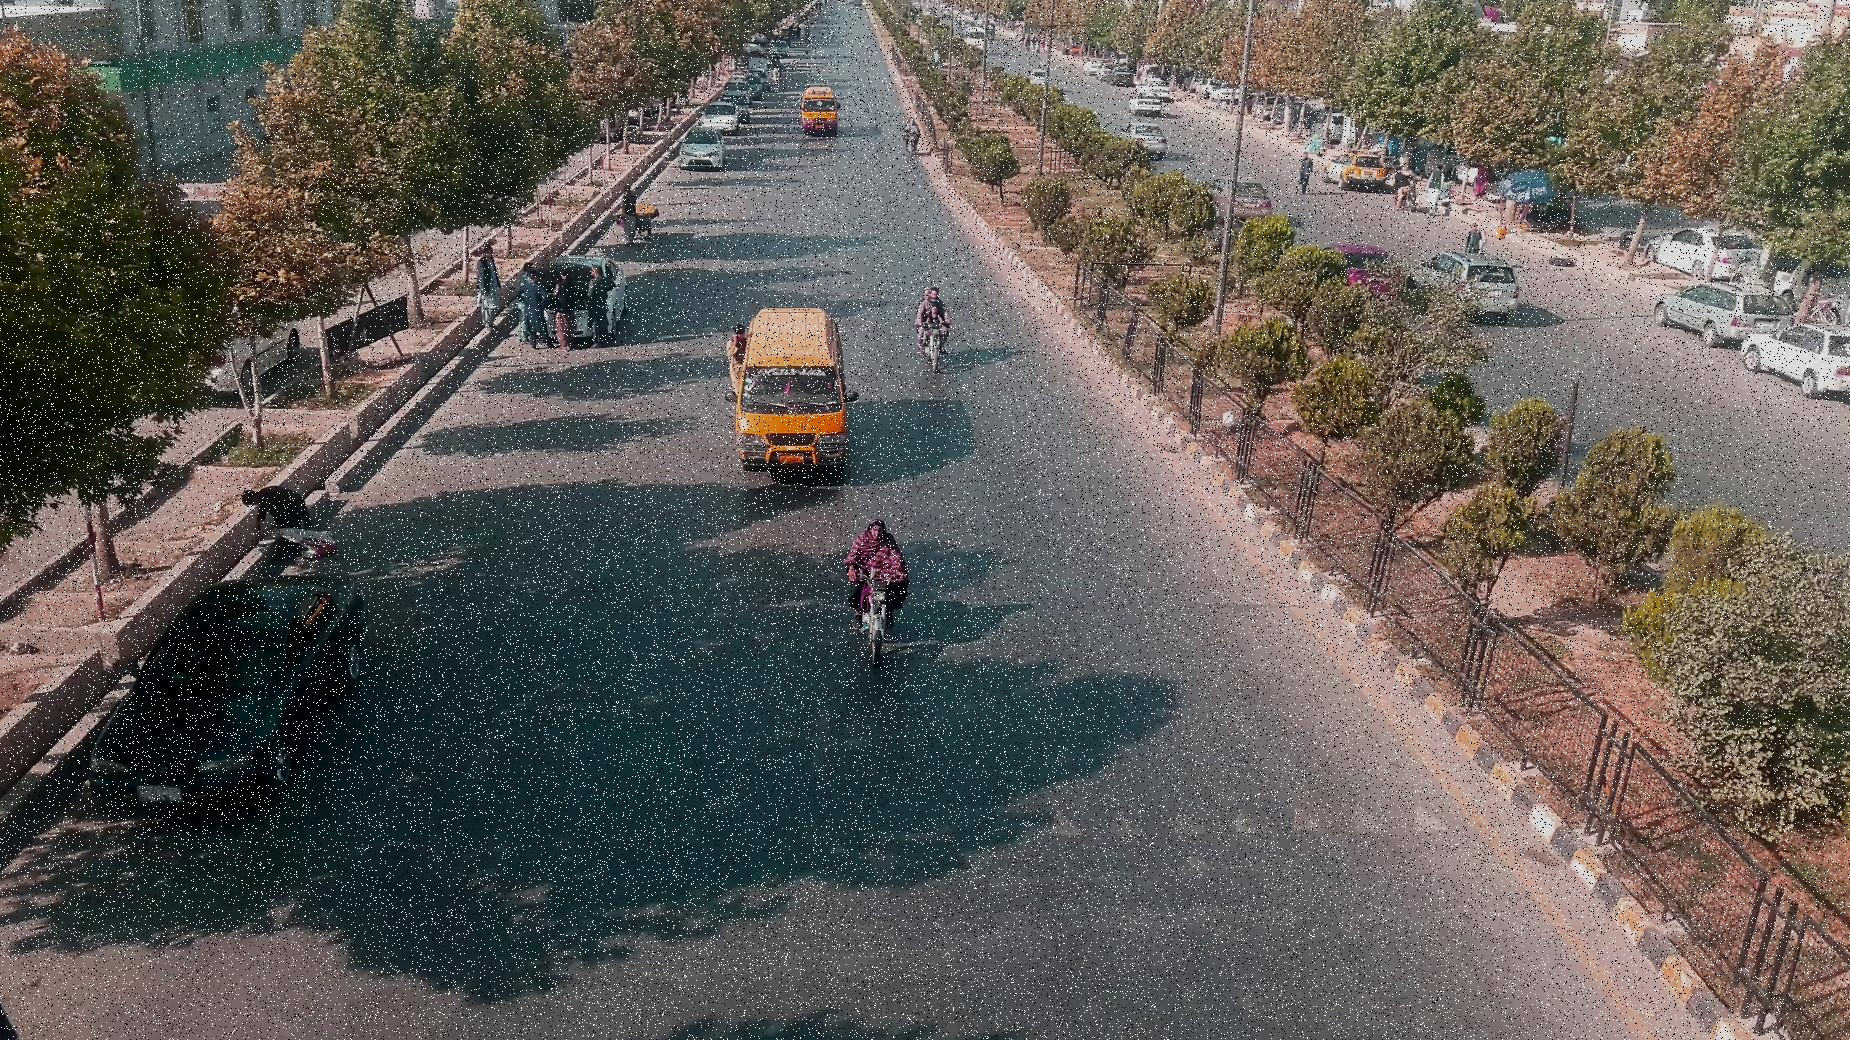bike: (849, 516, 908, 665), (910, 286, 962, 373), (901, 117, 921, 155)
bus: (734, 306, 858, 481), (800, 88, 839, 137)
car: (84, 570, 372, 819), (1656, 284, 1802, 350), (1739, 323, 1850, 408), (1414, 250, 1520, 319), (1321, 237, 1396, 293), (1206, 175, 1269, 220), (680, 136, 728, 171), (1122, 123, 1166, 159), (1128, 90, 1163, 118), (1025, 67, 1053, 88)
